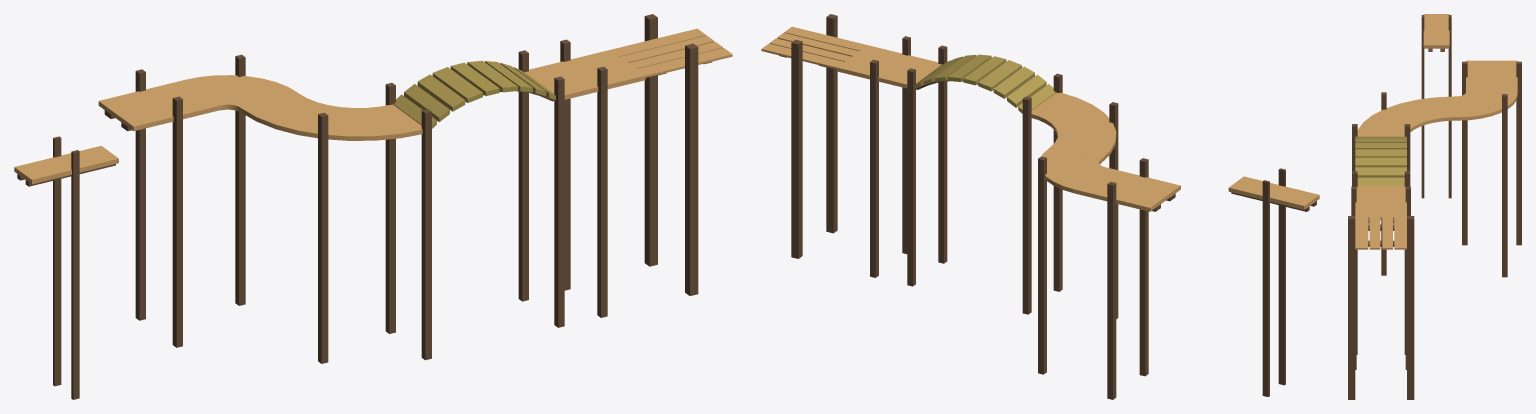
File: Paths.fbx
The picture shows the model from 3 angles, left to right: view 1: azimuth 30°, elevation 25°; view 2: azimuth 150°, elevation 25°; view 3: azimuth 270°, elevation 25°; orthographic projection. The views are drawn at different scales.
Parts seen in each view (by area): view 1: bridge.003, PathStraight.009, PathStraight.005, PathCornerLarge.002, PathStraight.001, PathStraight.000, PathCorner.001; view 2: bridge.003, PathStraight.009, PathStraight.005, PathStraight.001, PathStraight.000, PathCornerLarge.002, PathCorner.001; view 3: PathStraight.009, PathStraight.005, bridge.003, PathCornerLarge.002, PathCorner.001, PathStraight.001, PathStraight.000.
Part boxes in pixels (box(x1,y1,x2,y2)): bridge.003: box(385, 50, 564, 360); PathStraight.009: box(610, 14, 732, 295); PathStraight.005: box(98, 69, 220, 347); PathCornerLarge.002: box(241, 93, 422, 363); PathStraight.001: box(525, 39, 645, 317); PathStraight.000: box(14, 136, 118, 399); PathCorner.001: box(186, 54, 298, 305); bridge.003: box(907, 45, 1062, 314); PathStraight.009: box(761, 14, 867, 258); PathStraight.005: box(1074, 158, 1180, 399); PathStraight.001: box(837, 36, 941, 277); PathStraight.000: box(1228, 168, 1319, 396); PathCornerLarge.002: box(1031, 92, 1118, 318); PathCorner.001: box(1038, 147, 1104, 374); PathStraight.009: box(1348, 216, 1414, 399); PathStraight.005: box(1462, 60, 1521, 245); bridge.003: box(1352, 124, 1410, 354); PathCornerLarge.002: box(1357, 92, 1454, 275); PathCorner.001: box(1455, 92, 1517, 277); PathStraight.001: box(1351, 185, 1410, 369); PathStraight.000: box(1421, 14, 1451, 198).
Size of the model in its own units: 1500 by 551 by 471.
